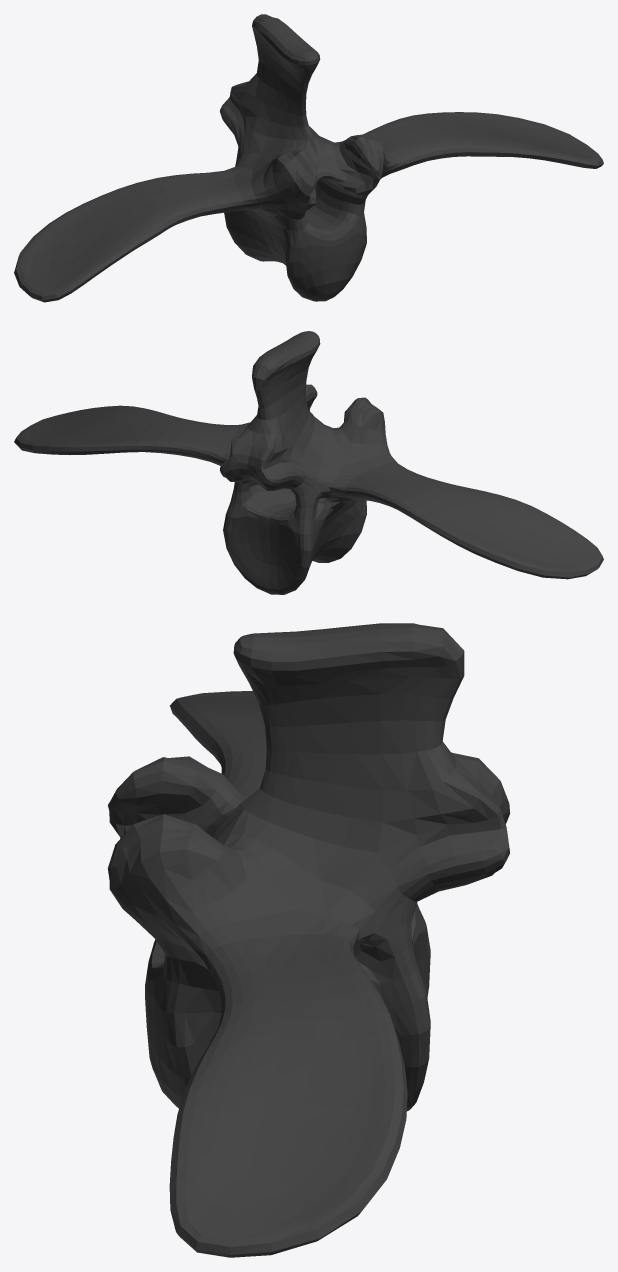
3 views of the same model, one above another, from view 1: azimuth 30°, elevation 25°; view 2: azimuth 150°, elevation 25°; view 3: azimuth 270°, elevation 25° (orthographic). The views are drawn at different scales.
Visible parts, largest first — view 1: b_L4_LO; view 2: b_L4_LO; view 3: b_L4_LO.
Boxes of the visible parts, x1=… form: b_L4_LO: x1=14, y1=14, x2=603, y2=302; b_L4_LO: x1=14, y1=331, x2=603, y2=594; b_L4_LO: x1=107, y1=623, x2=510, y2=1257.
Size of the model in its own units: 0.00294 by 0.0012 by 0.000899.
1 material, 1 textured.
